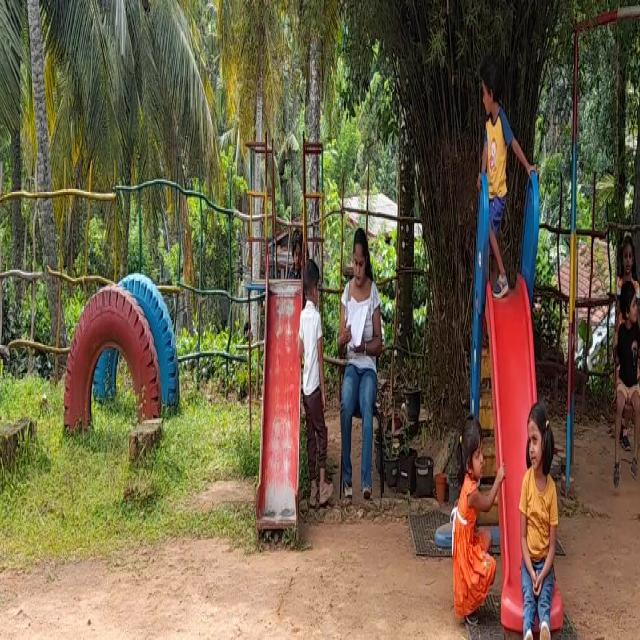adult: (338, 209, 388, 493)
child: (513, 396, 558, 640), (478, 68, 518, 274), (450, 412, 491, 600), (301, 263, 332, 500), (620, 279, 640, 452)
